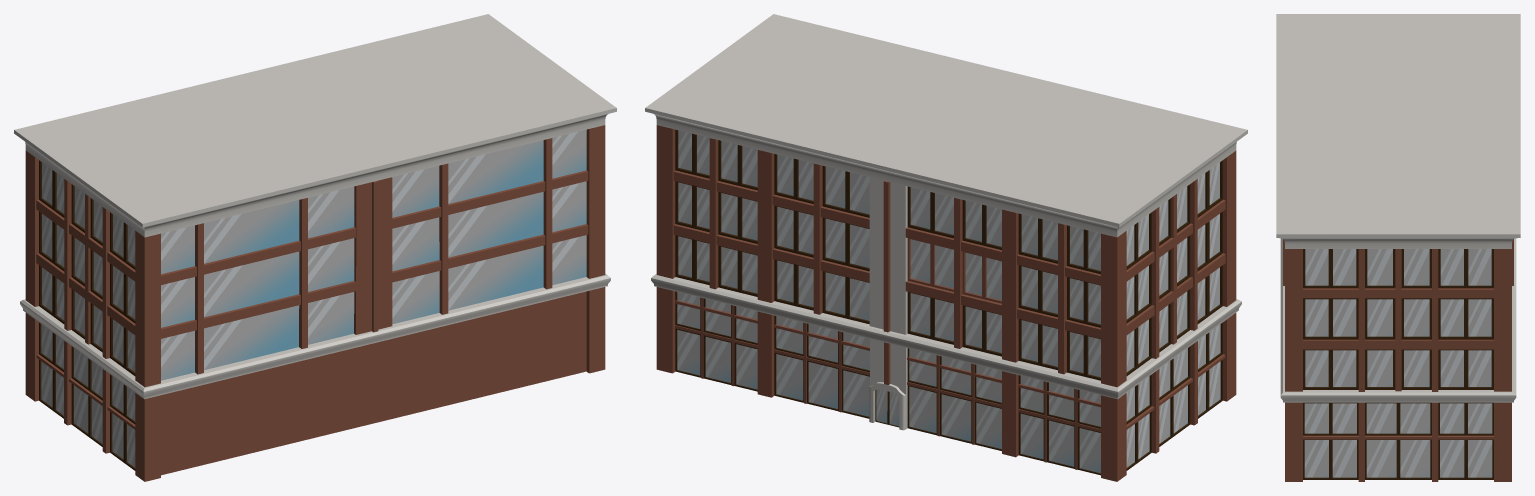
Rendered from Building08WTextures.fbx.
3 renders of one model, left to right at view 1: azimuth 30°, elevation 25°; view 2: azimuth 150°, elevation 25°; view 3: azimuth 270°, elevation 25°, orthographic. The views are drawn at different scales.
Visible parts, largest first — view 1: Box006; view 2: Box006; view 3: Box006.
Part boxes in pixels (x1=…): Box006: x1=14, y1=14, x2=616, y2=481; Box006: x1=645, y1=14, x2=1247, y2=481; Box006: x1=1276, y1=14, x2=1520, y2=481.
Bounding box in the file's own units: 200 × 106 × 93.56.
Materials: 1 (1 with a texture image).
